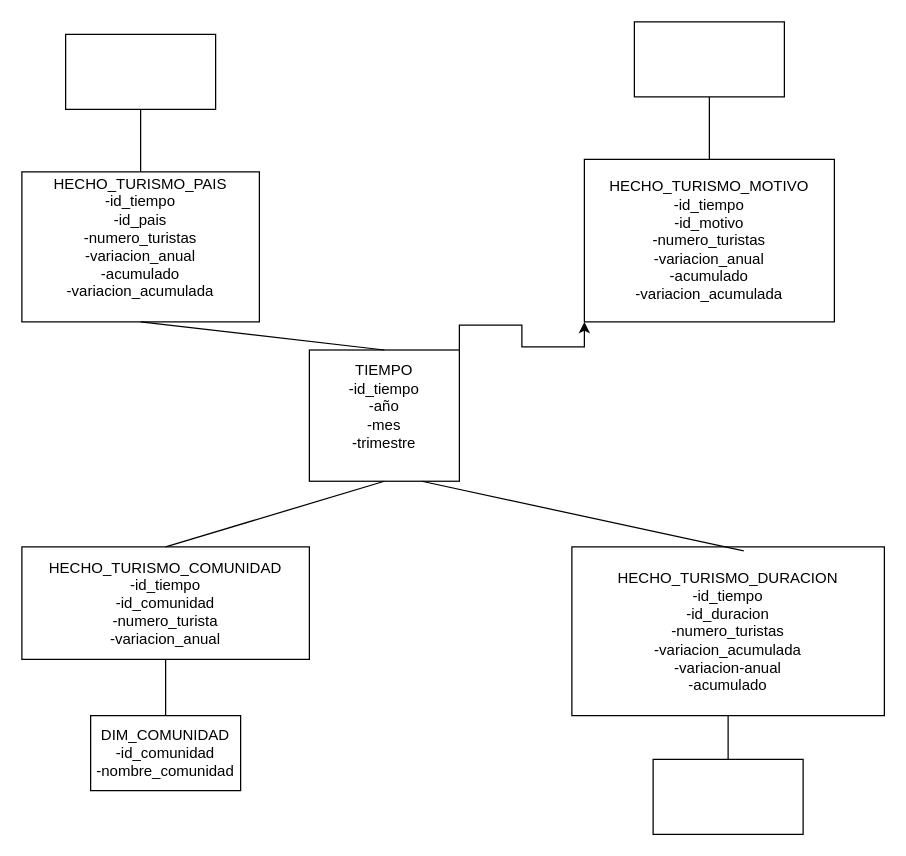
Some shapes in this 906 by 856 pixel diagram are drawn without their labels. The shapes that lost their labels are listed below. From the top down, each one's centre as x and y in pixels, then its label:
At point 140,71: "DIM_PAIS -id_pais -nombre-pais".
At point 708,59: "DIM_MOTIVO -id_motivo -nombre_motivo".
At point 727,796: "DIM_DURACION -id_duracion -descripcion_duracion".
